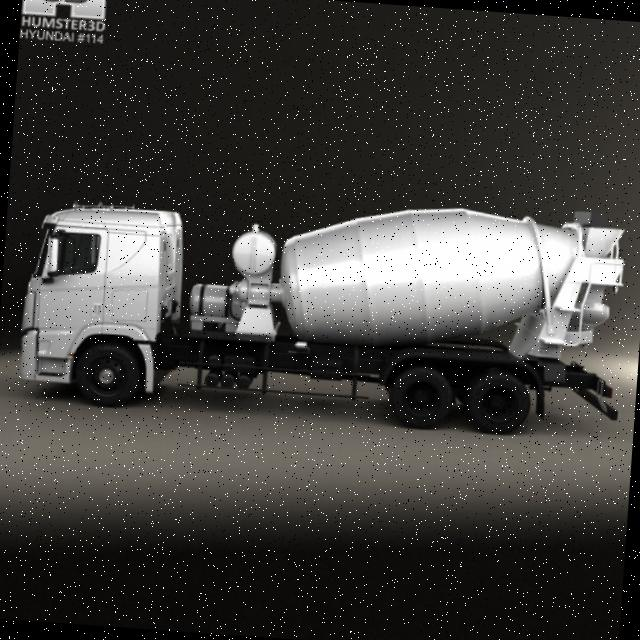Mixer Truck: (17, 172, 631, 442)
